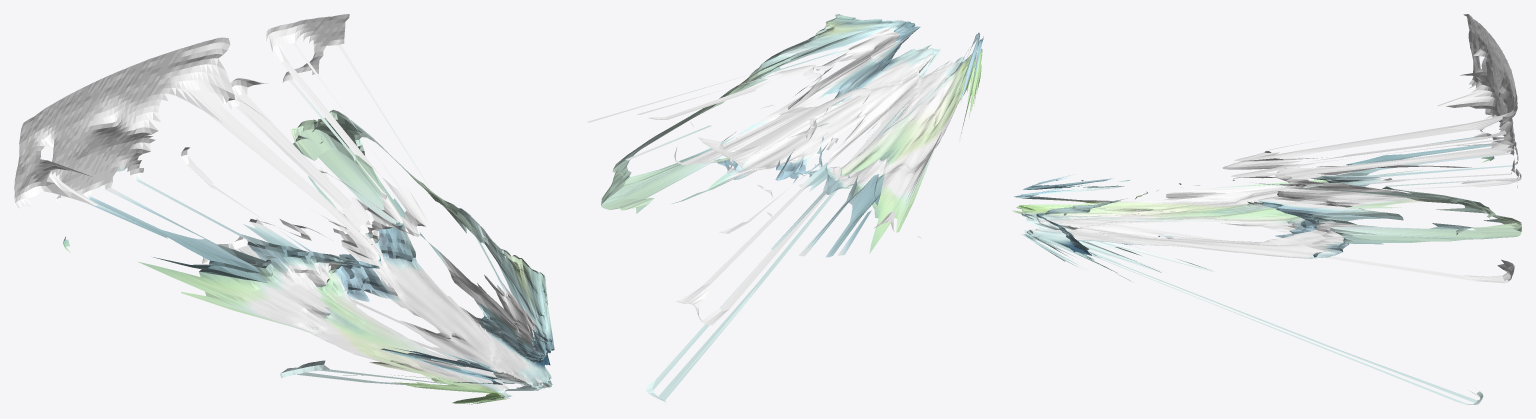
3 renders of one model, left to right at view 1: azimuth 30°, elevation 25°; view 2: azimuth 150°, elevation 25°; view 3: azimuth 270°, elevation 25°, orthographic. The views are drawn at different scales.
Visible parts, largest first — view 1: defaultobject; view 2: defaultobject; view 3: defaultobject.
Part boxes in pixels (<box>): defaultobject: <box>14,14,554,404</box>; defaultobject: <box>587,14,983,402</box>; defaultobject: <box>1012,14,1521,404</box>.
Size of the model in its own units: 29.98 by 26.99 by 44.34.
1 material, 1 textured.
